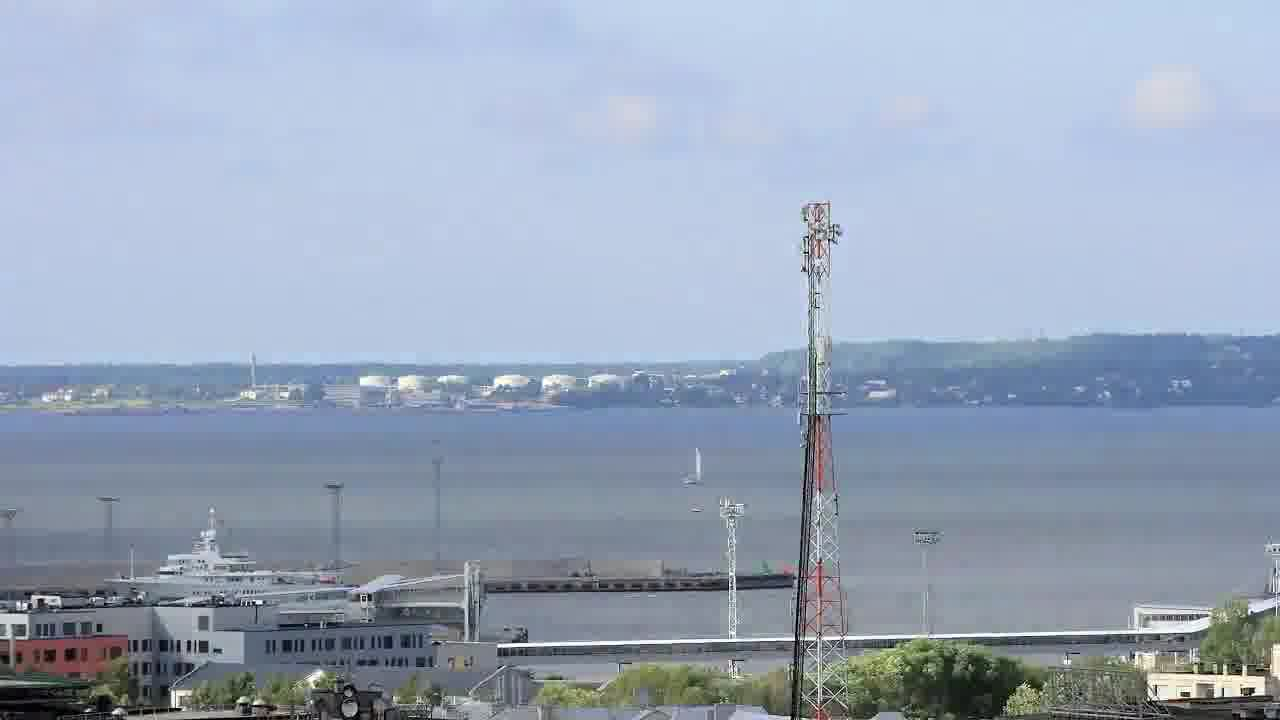type-2: (666, 434, 721, 498)
type-3: (84, 515, 355, 603)
